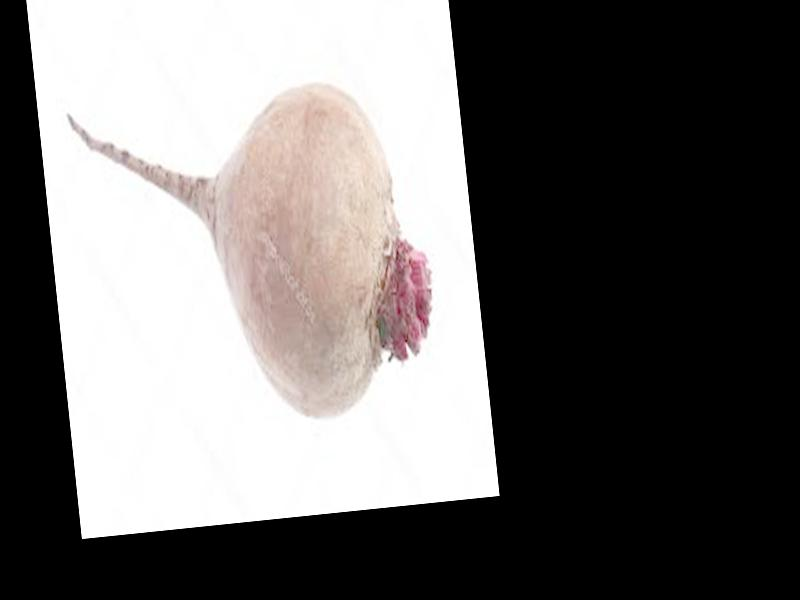Beet: (66, 73, 443, 447)
